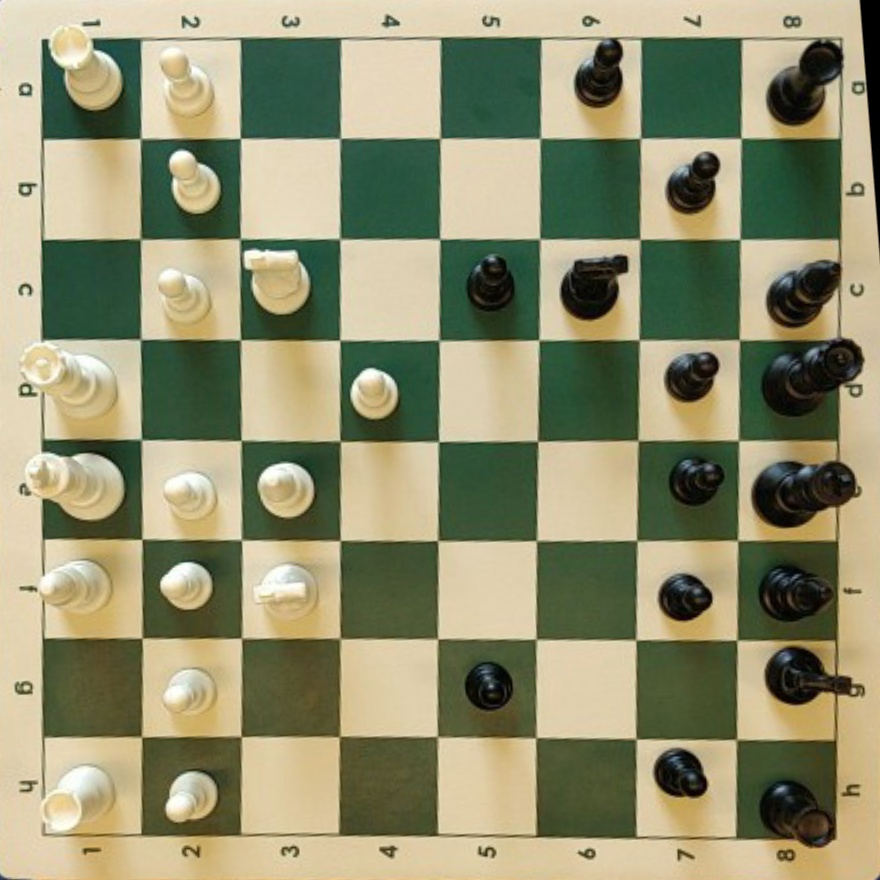black-bishop: (760, 564, 833, 621), (761, 262, 819, 318)
black-king: (753, 460, 858, 527)
black-knight: (766, 647, 865, 704), (560, 254, 628, 319)
black-pawn: (575, 37, 624, 106), (661, 362, 719, 418), (667, 152, 720, 212), (654, 749, 708, 798), (467, 254, 515, 309), (670, 456, 725, 504), (659, 573, 713, 621), (465, 661, 513, 710)
black-queen: (763, 339, 863, 414)
black-rook: (767, 40, 842, 124), (760, 779, 834, 847)
white-bishop: (37, 559, 111, 612), (257, 462, 315, 519)
white-king: (19, 451, 125, 520)
white-knight: (244, 252, 310, 314), (255, 563, 317, 620)
white-pawn: (160, 50, 213, 117), (167, 149, 221, 214), (157, 268, 211, 324), (164, 770, 218, 824), (162, 470, 216, 520), (159, 561, 212, 610), (350, 368, 399, 419), (163, 668, 215, 714)
white-queen: (19, 345, 118, 418)
white-rook: (49, 27, 123, 112), (41, 764, 115, 835)
